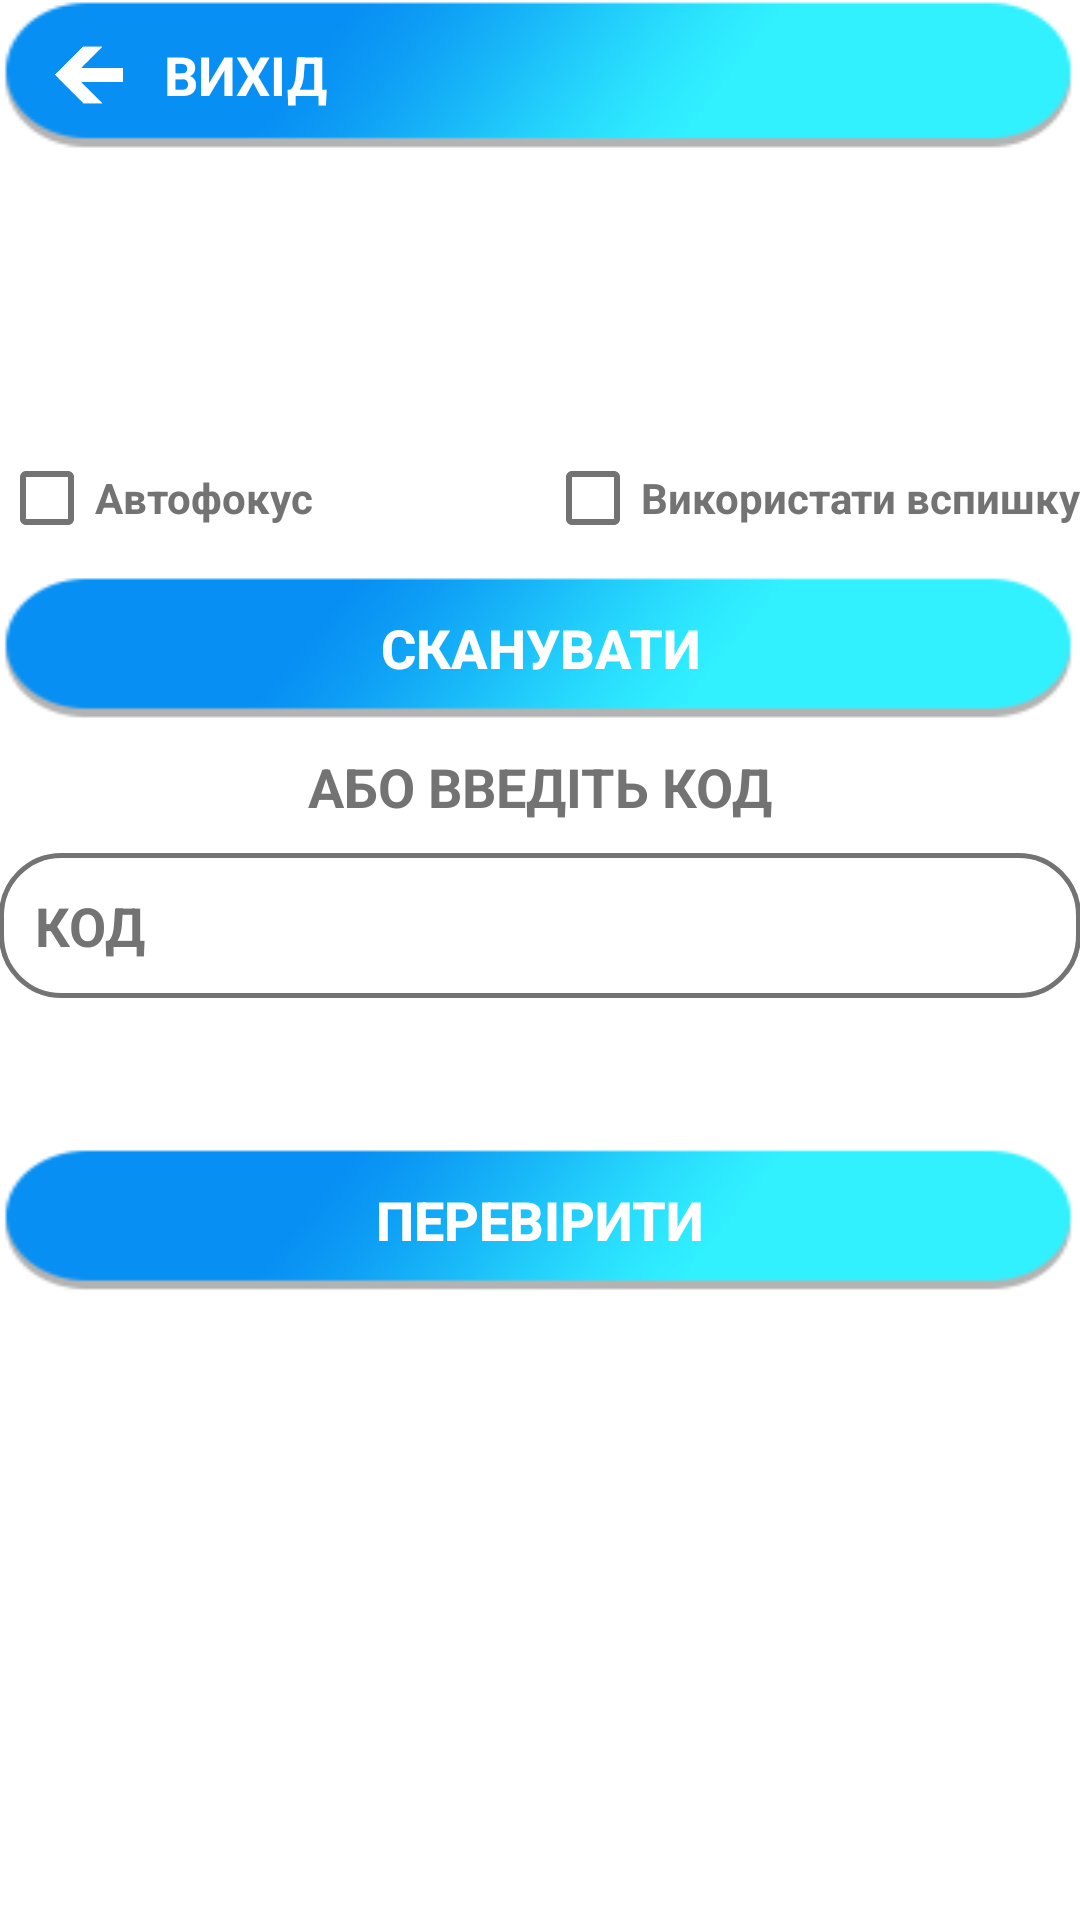

Point at icon controls on the screen. Image size 1080 × 1920, points as (x,y).
bbeck: (89,75)
